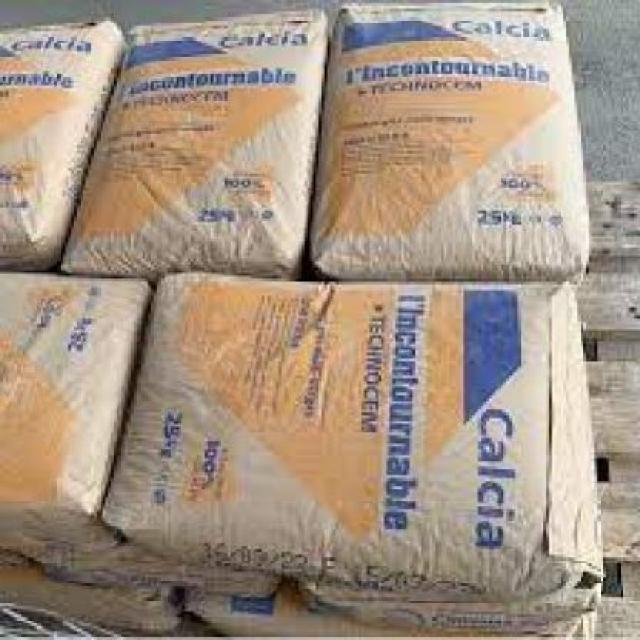gunny_bag: (107, 269, 572, 566), (318, 0, 582, 270), (57, 21, 327, 275), (0, 262, 152, 509), (0, 13, 115, 245), (300, 578, 588, 638), (175, 594, 512, 638), (8, 544, 277, 597), (2, 567, 177, 634)
